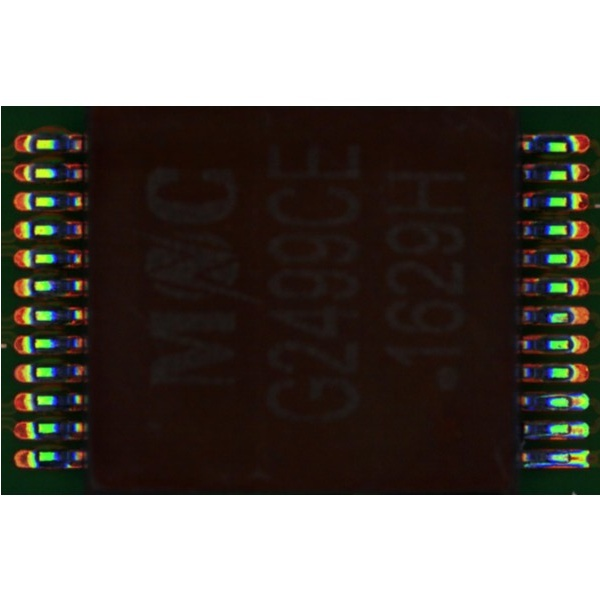Bad_podu: (563, 426, 579, 437), (564, 398, 580, 408), (564, 454, 579, 464)
Bad_qiaojiao: (520, 462, 566, 467), (528, 433, 566, 439), (535, 393, 567, 398)
